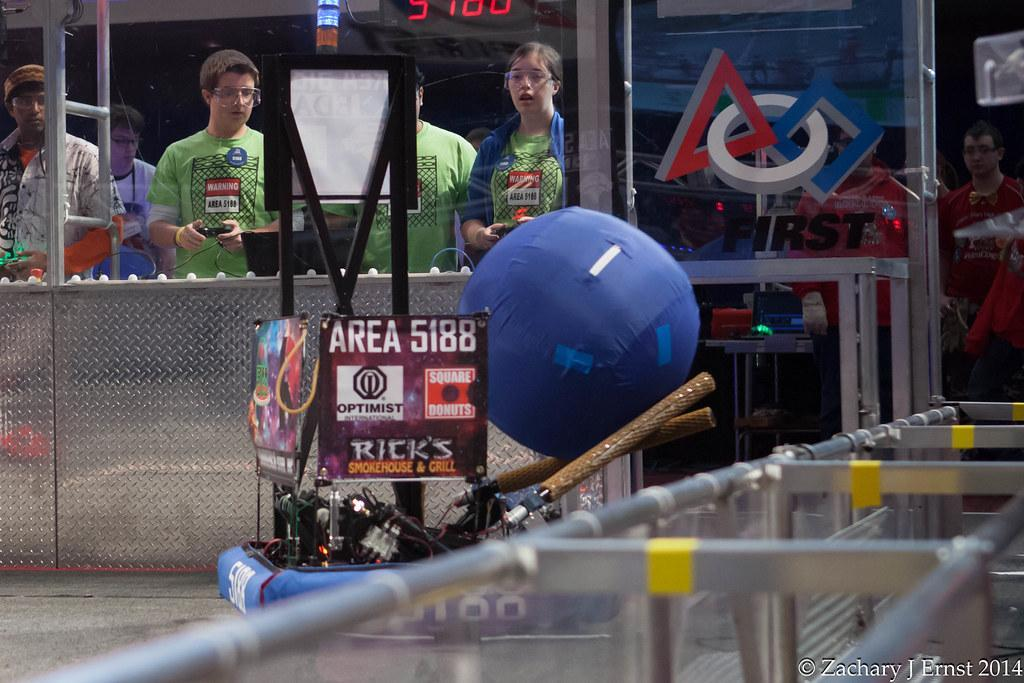robot: (225, 40, 719, 638)
